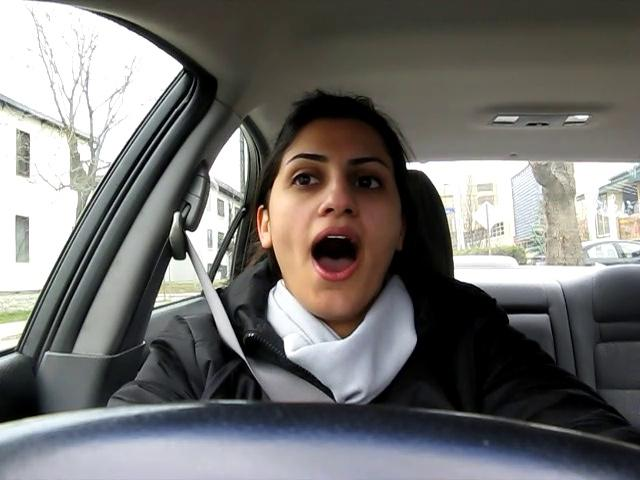open_eyeL: (280, 163, 336, 197)
open_eyeR: (340, 166, 405, 201)
yawn: (287, 225, 376, 281)
